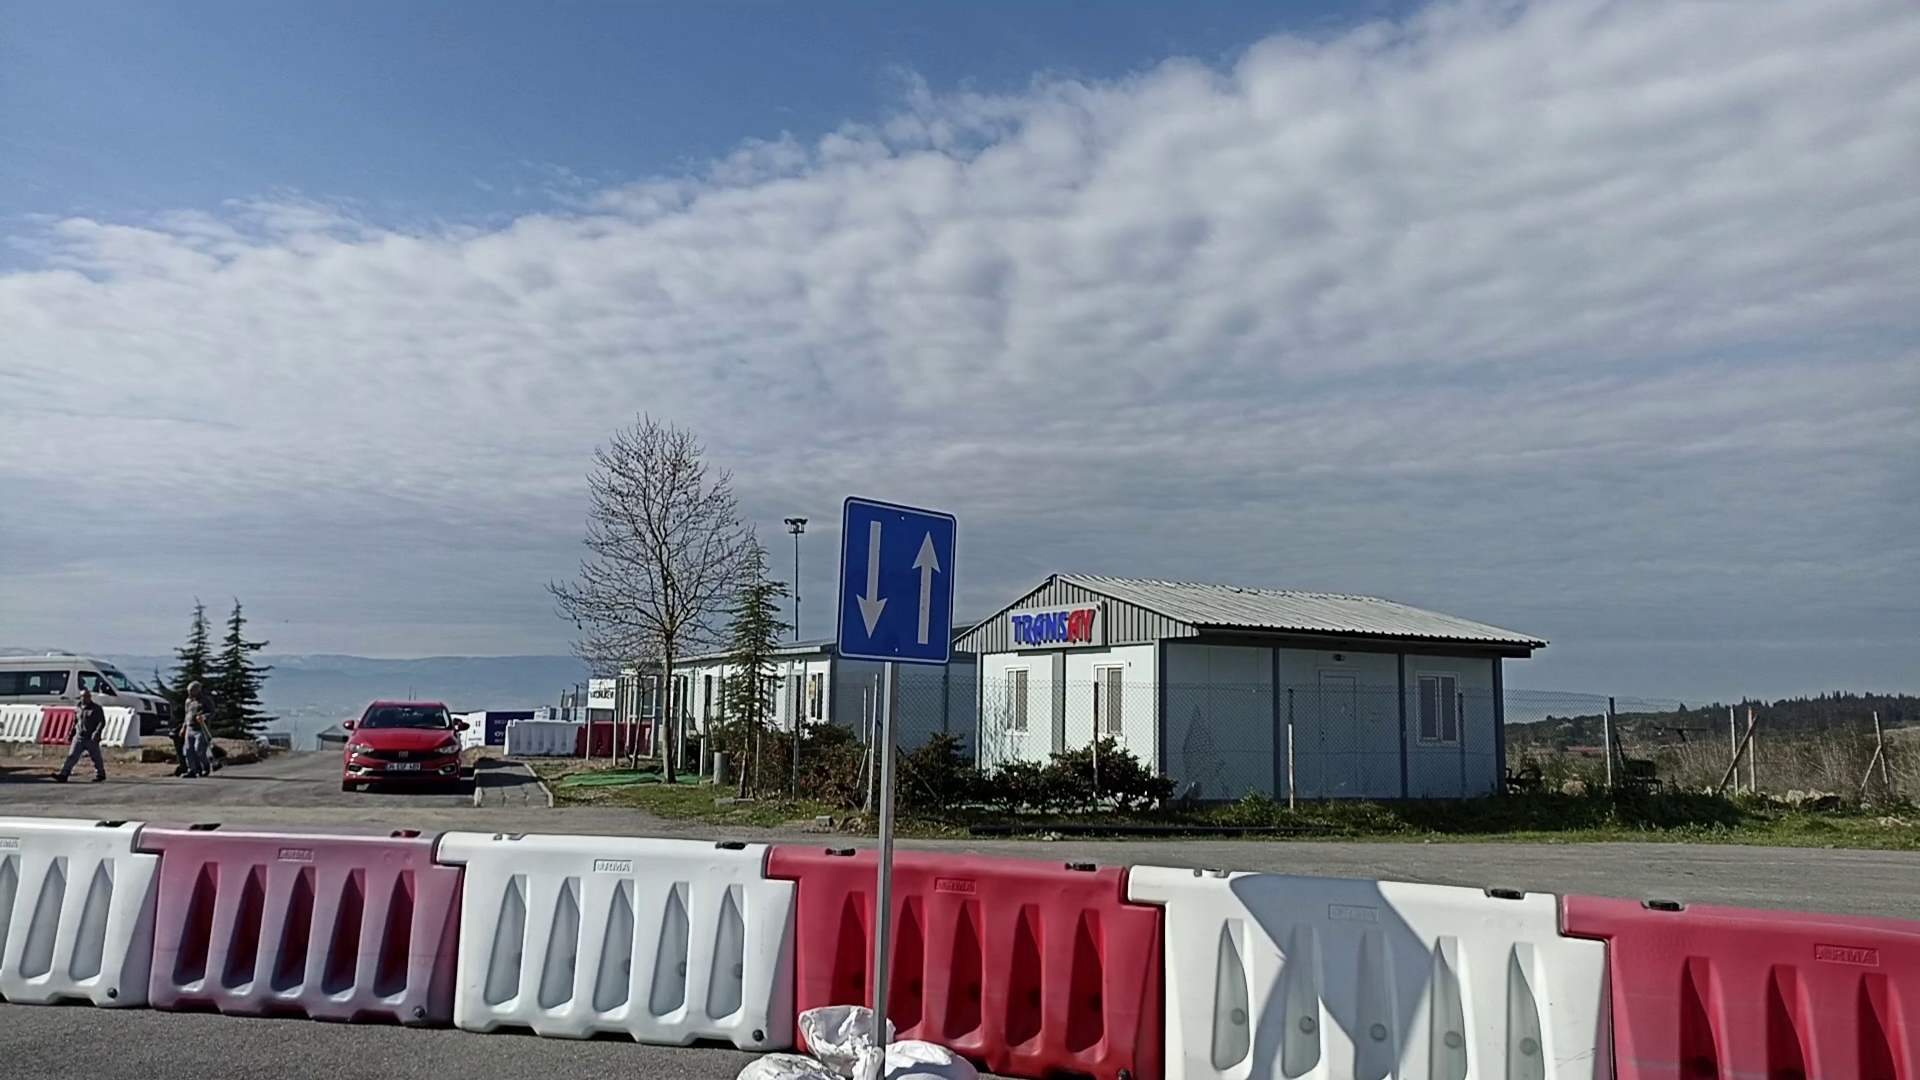oneway: (833, 495, 963, 670)
